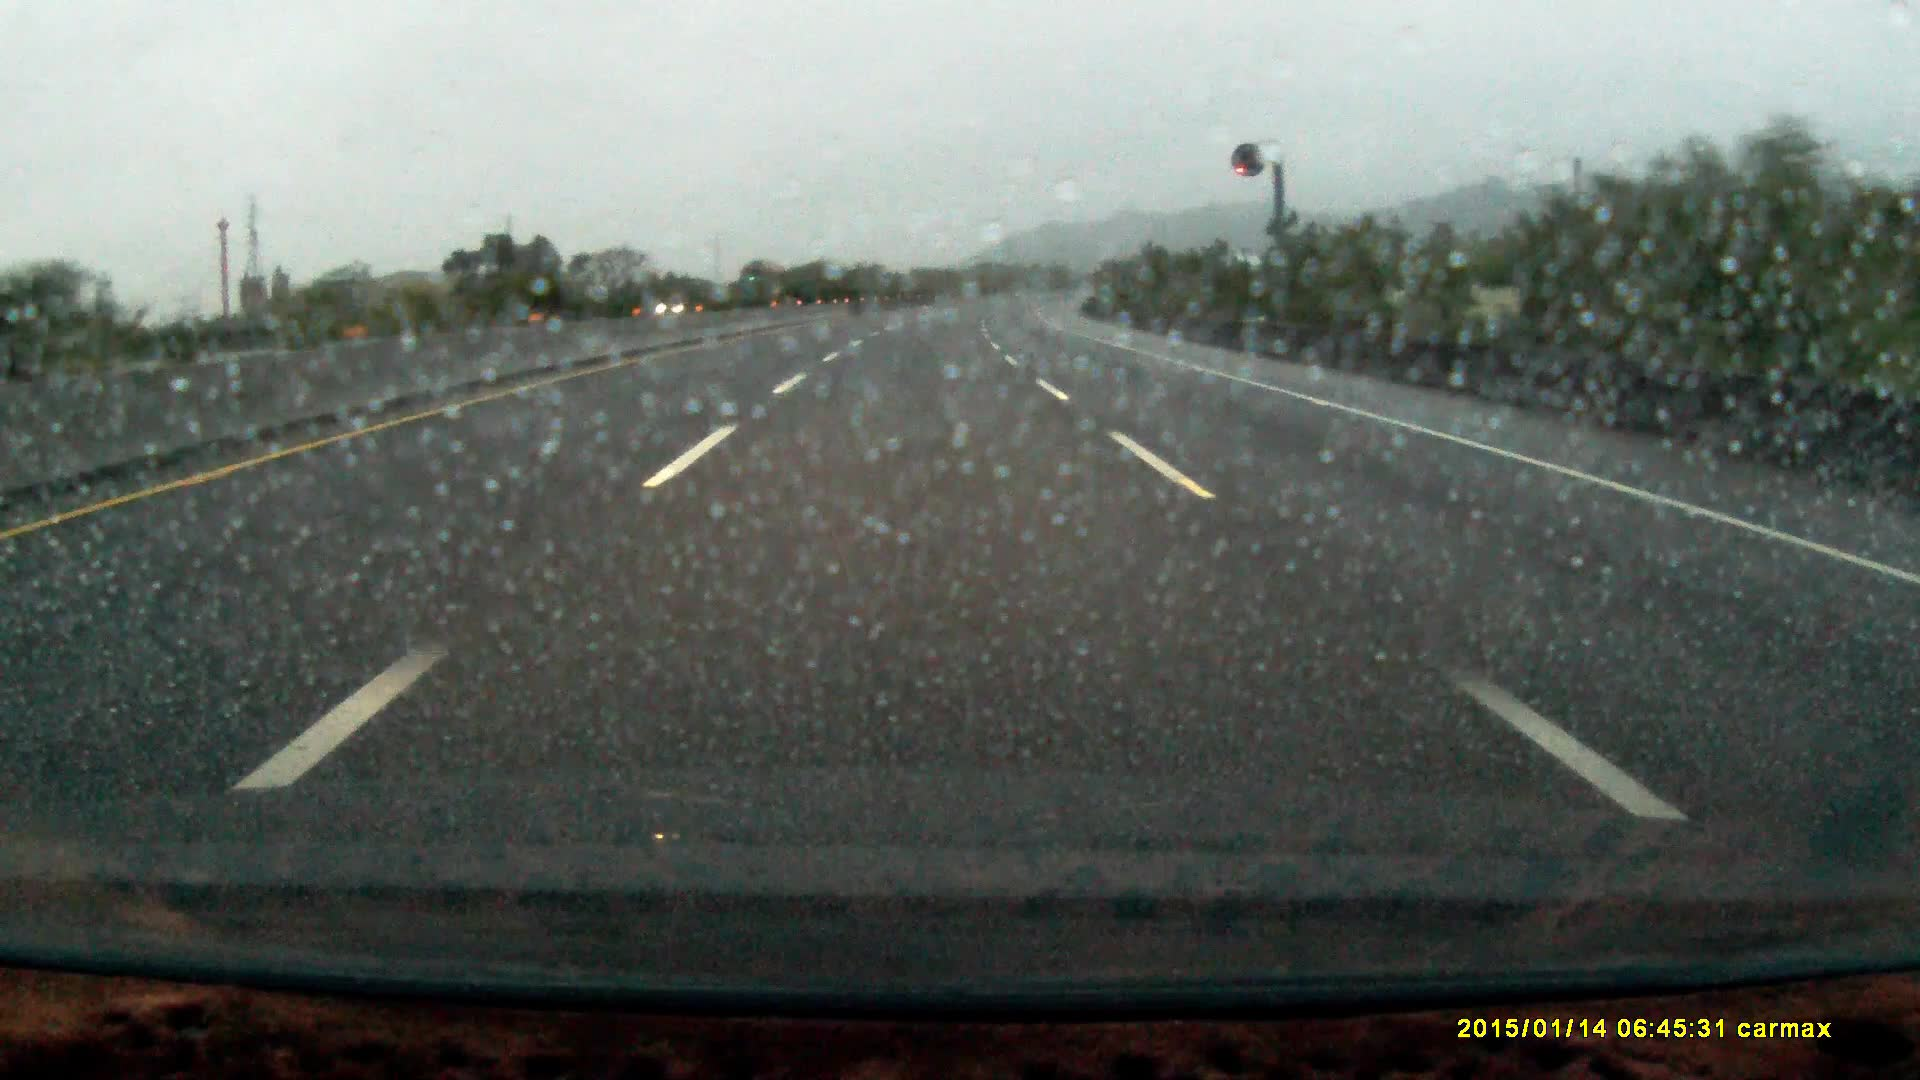vehicle: (735, 260, 781, 303), (654, 290, 703, 314)
